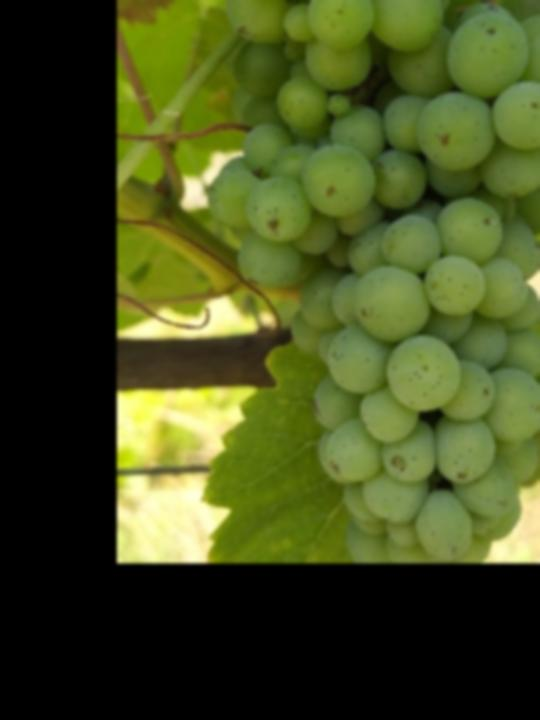grape: (205, 0, 540, 580)
